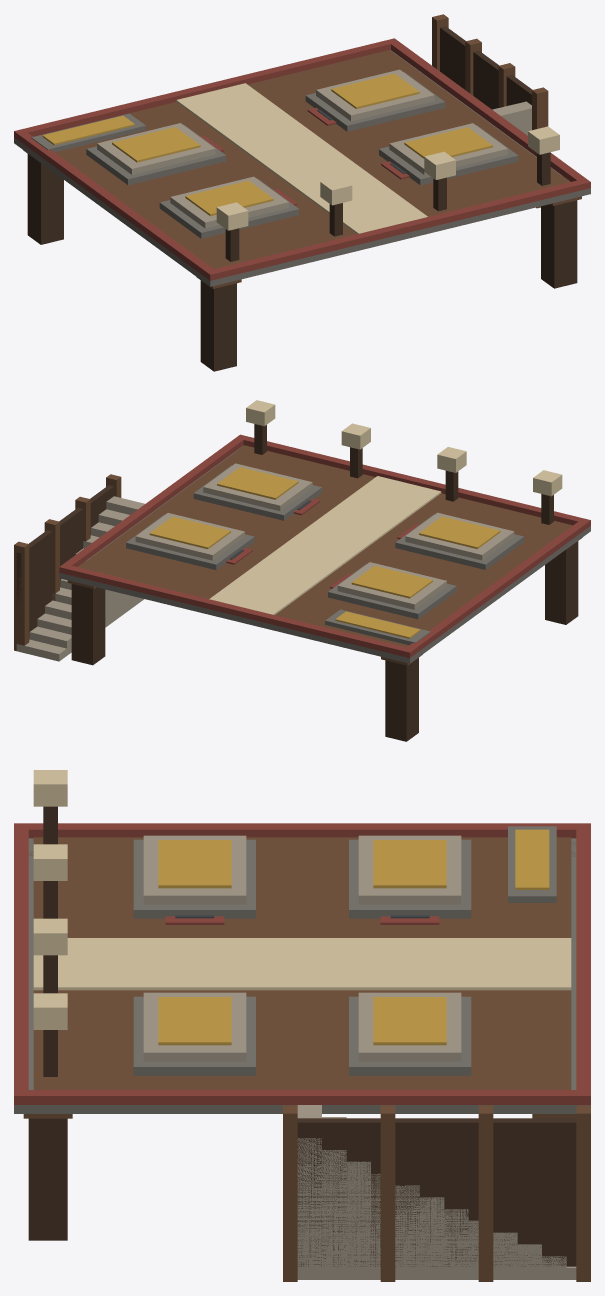
Rendered from KLC_Plot_PlayerBase_Floor02.fbx.
The picture shows the model from 3 angles, top to bottom: view 1: azimuth 30°, elevation 25°; view 2: azimuth 150°, elevation 25°; view 3: azimuth 270°, elevation 25°; orthographic projection. The views are drawn at different scales.
Visible parts, largest first — view 1: F2_Wood_Deck, F2_Center_Aisle, F2_Back_Edge, F2_Main_Slab, F2_Front_Edge, F2_Stair_OuterRail, F2_Support_2, F2_Support_4, F2_Support_1, F2_Left_Edge, F2_Right_Edge, F2_Podium_Top_08 (+23 smaller); view 2: F2_Wood_Deck, F2_Center_Aisle, F2_Stair_OuterRail, F2_Front_Edge, F2_Main_Slab, F2_Back_Edge, F2_Support_3, F2_Support_1, F2_Right_Edge, F2_Left_Edge, F2_Support_2, F2_Podium_Top_04 (+23 smaller); view 3: F2_Wood_Deck, F2_Center_Aisle, F2_Stair_OuterRail, F2_Right_Edge, F2_Main_Slab, F2_Left_Edge, F2_Support_4, F2_Front_Edge, F2_Back_Edge, F2_Stair_Step_12, F2_Podium_Top_03, F2_Podium_Top_04 (+30 smaller).
Boxes of the visible parts, bbox=[...] form: F2_Wood_Deck: bbox=[55, 50, 569, 268]; F2_Center_Aisle: bbox=[176, 83, 427, 233]; F2_Back_Edge: bbox=[205, 178, 590, 280]; F2_Main_Slab: bbox=[14, 50, 590, 286]; F2_Front_Edge: bbox=[14, 38, 398, 140]; F2_Stair_OuterRail: bbox=[440, 26, 532, 109]; F2_Support_2: bbox=[200, 280, 236, 371]; F2_Support_4: bbox=[541, 200, 577, 288]; F2_Support_1: bbox=[27, 154, 63, 244]; F2_Left_Edge: bbox=[19, 132, 213, 276]; F2_Right_Edge: bbox=[391, 42, 585, 181]; F2_Podium_Top_08: bbox=[316, 69, 434, 121]; F2_Wood_Deck: bbox=[78, 445, 572, 647]; F2_Center_Aisle: bbox=[209, 476, 441, 614]; F2_Stair_OuterRail: bbox=[16, 485, 113, 638]; F2_Front_Edge: bbox=[59, 564, 414, 657]; F2_Main_Slab: bbox=[59, 446, 590, 663]; F2_Back_Edge: bbox=[236, 434, 590, 528]; F2_Support_3: bbox=[71, 584, 105, 665]; F2_Support_1: bbox=[385, 658, 418, 741]; F2_Right_Edge: bbox=[64, 438, 243, 566]; F2_Left_Edge: bbox=[407, 521, 586, 654]; F2_Support_2: bbox=[545, 541, 578, 624]; F2_Podium_Top_04: bbox=[405, 512, 514, 560]; F2_Wood_Deck: bbox=[33, 837, 571, 1089]; F2_Center_Aisle: bbox=[33, 938, 571, 990]; F2_Stair_OuterRail: bbox=[297, 1118, 576, 1266]; F2_Right_Edge: bbox=[28, 1090, 576, 1104]; F2_Main_Slab: bbox=[14, 838, 590, 1113]; F2_Left_Edge: bbox=[28, 823, 576, 838]; F2_Support_4: bbox=[28, 1118, 67, 1240]; F2_Front_Edge: bbox=[576, 823, 590, 1104]; F2_Back_Edge: bbox=[14, 823, 28, 1104]; F2_Stair_Step_12: bbox=[297, 1105, 321, 1279]; F2_Podium_Top_03: bbox=[358, 835, 461, 904]; F2_Podium_Top_04: bbox=[143, 835, 246, 904].
Bounding box in the file's own units: 1862 × 625 × 1475.
8 materials, 8 textured.
